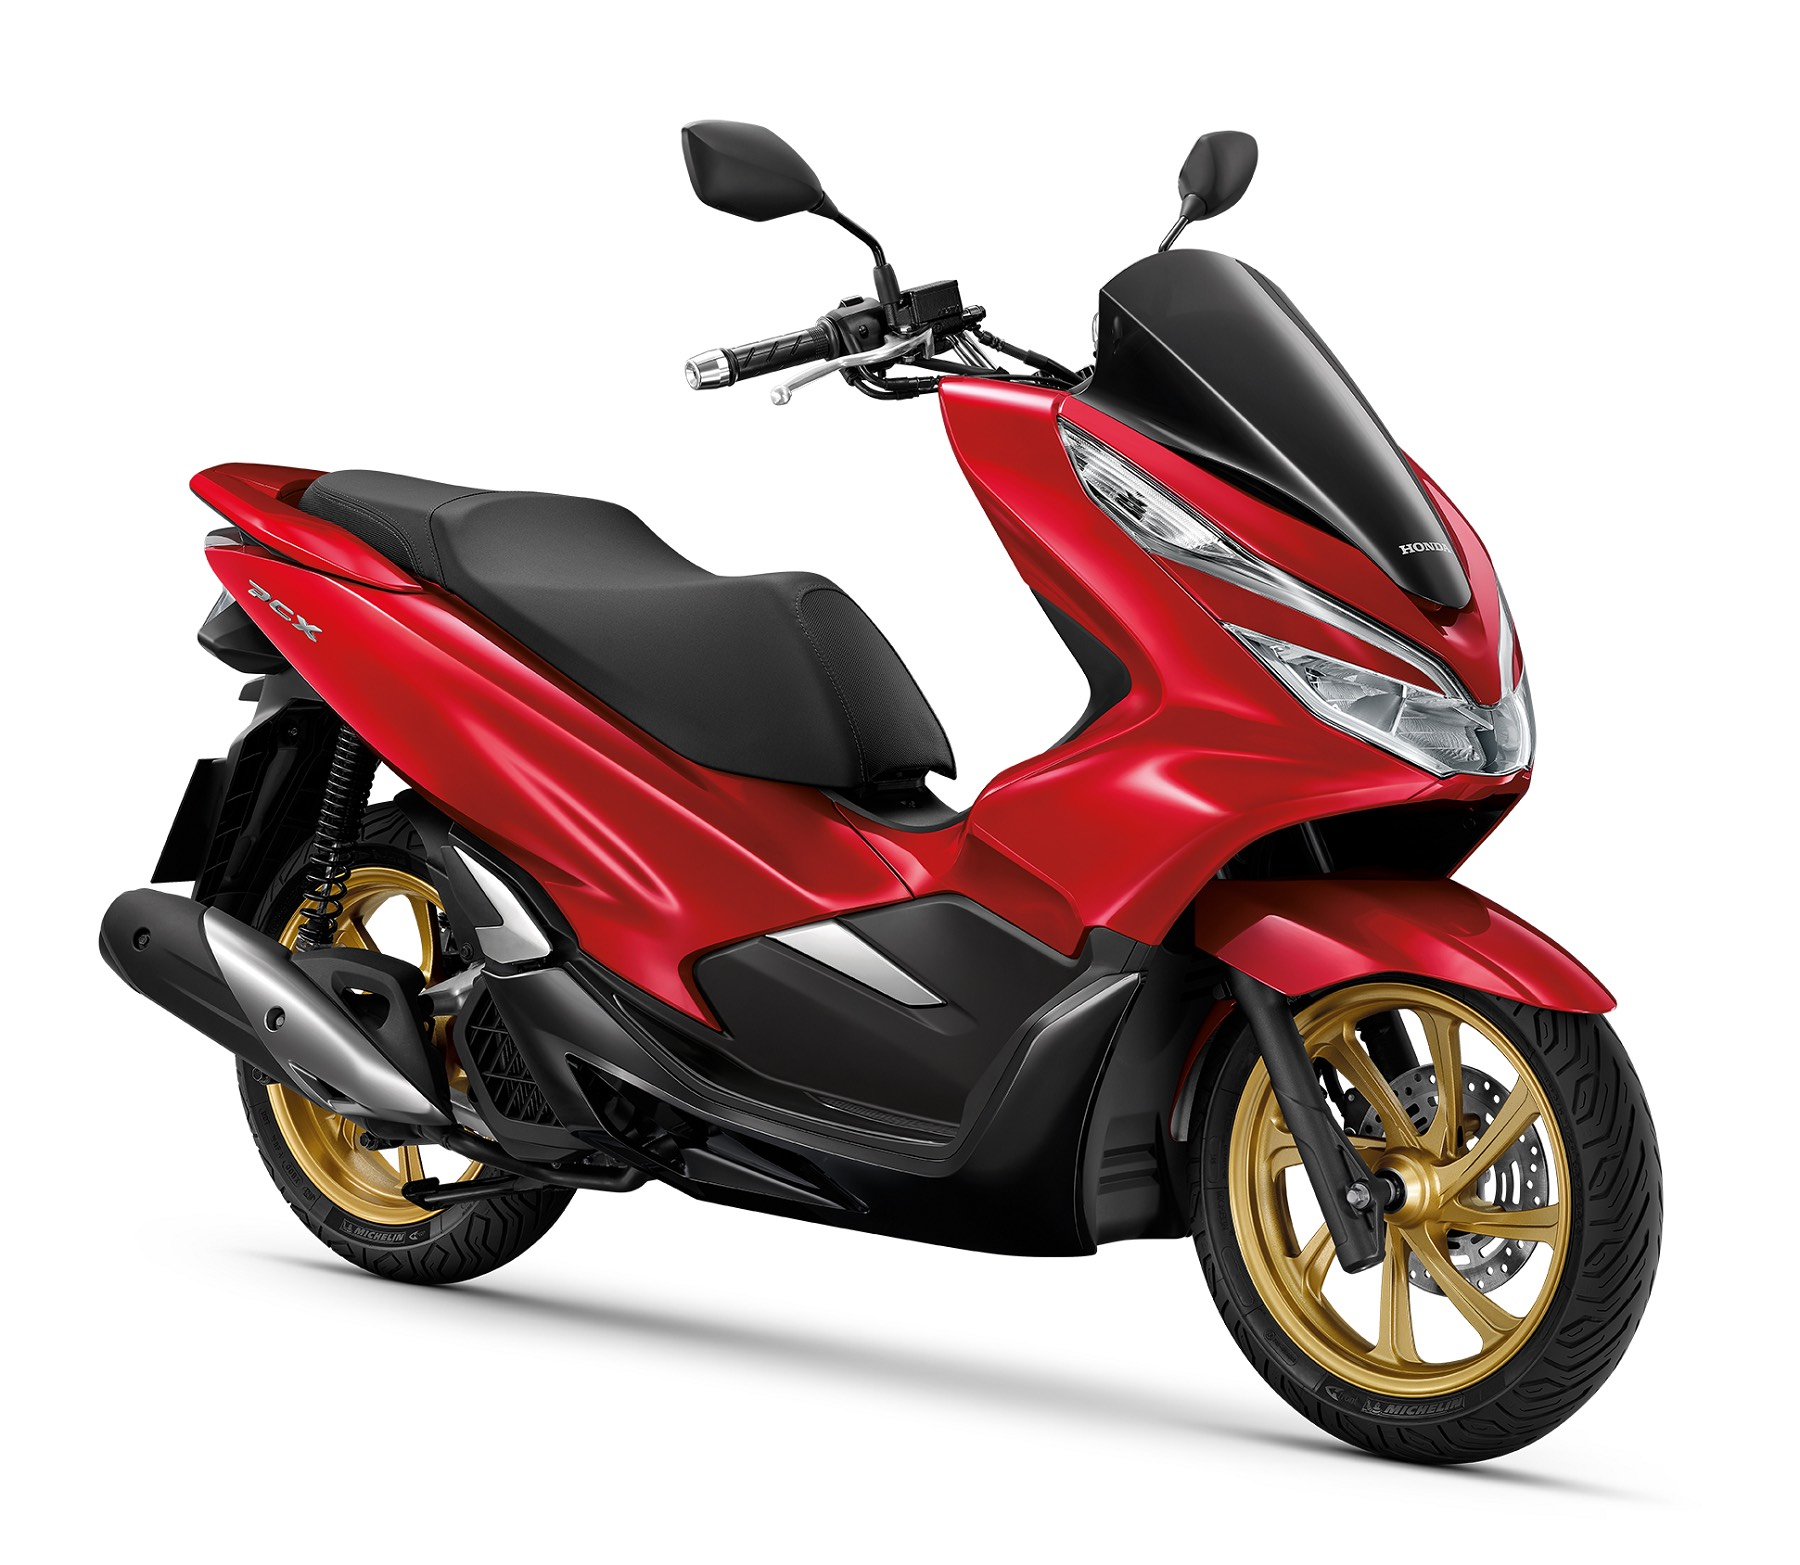motorcycle: (145, 233, 1671, 1462)
